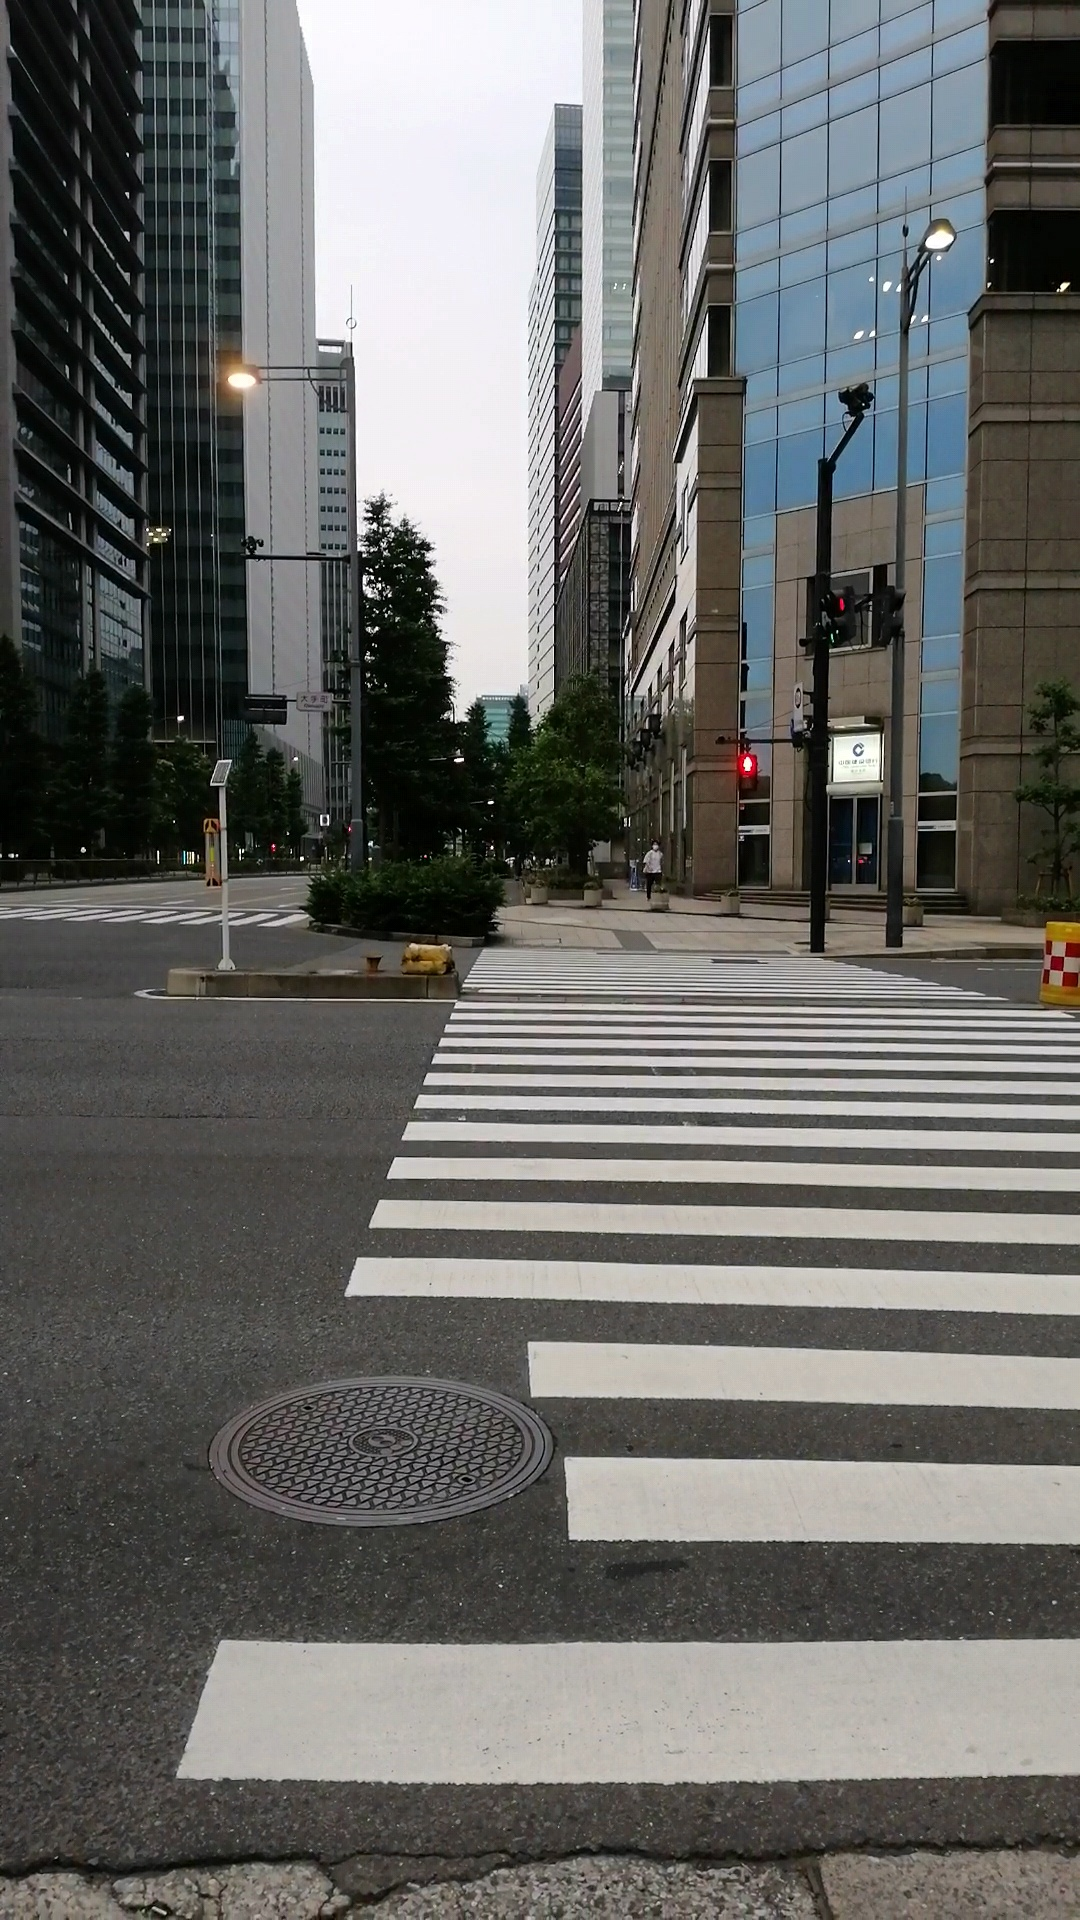red: (736, 753, 758, 794)
